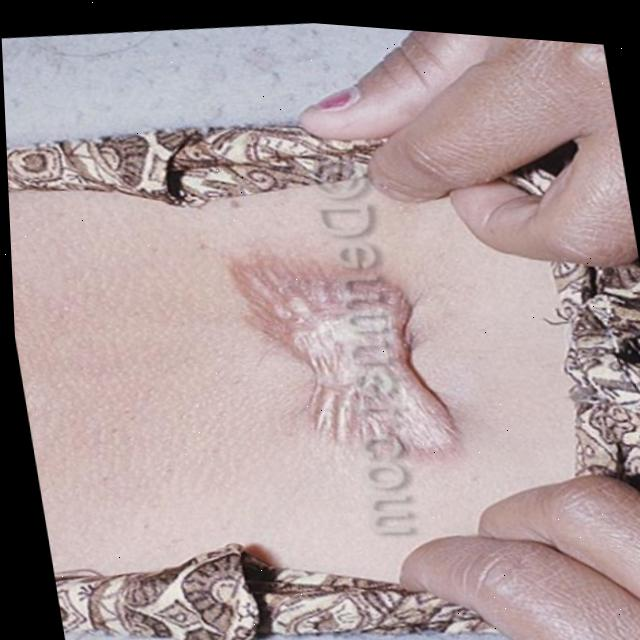Eczema: (279, 246, 445, 463)
